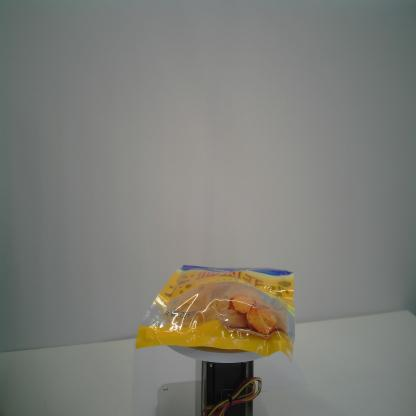Dried Fruit: (133, 261, 297, 365)
